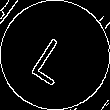L_NE: (28, 25, 82, 85)
